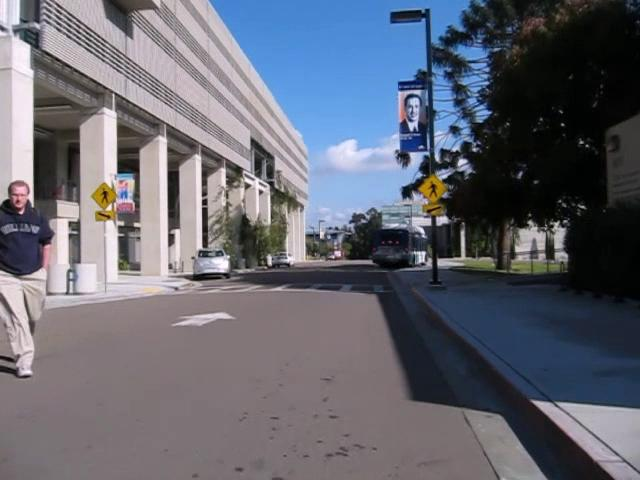pedestrianCrossing: (418, 172, 449, 203), (90, 181, 117, 209)
